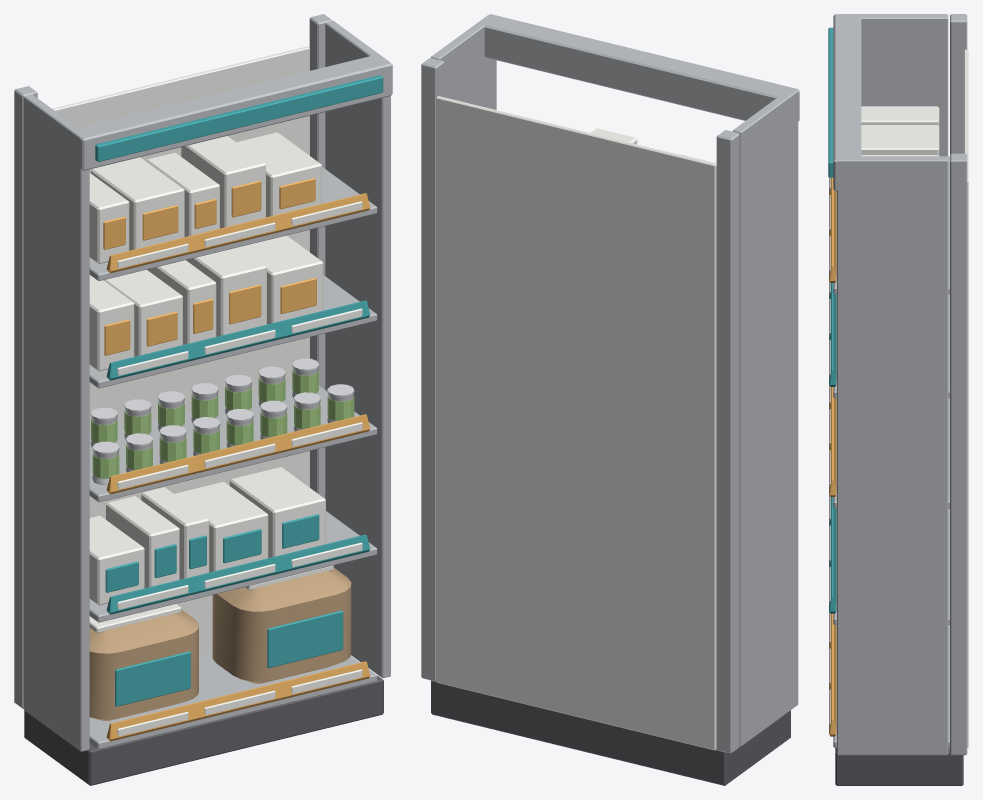
Rendered from pet-shop-and-grooming-salon-wall-shelving-bay-96f01b4d__34573.glb.
The picture shows the model from 3 angles, left to right: view 1: azimuth 30°, elevation 25°; view 2: azimuth 150°, elevation 25°; view 3: azimuth 270°, elevation 25°; orthographic projection. The views are drawn at different scales.
Parts seen in each view (by area): view 1: wall-shelving-bay; view 2: wall-shelving-bay; view 3: wall-shelving-bay.
Part boxes in pixels (x1,y1,x2,y2): wall-shelving-bay: (14,14,392,785); wall-shelving-bay: (421,14,799,785); wall-shelving-bay: (828,14,968,785).
Bounding box in the file's own units: 1 × 2 × 0.404.
